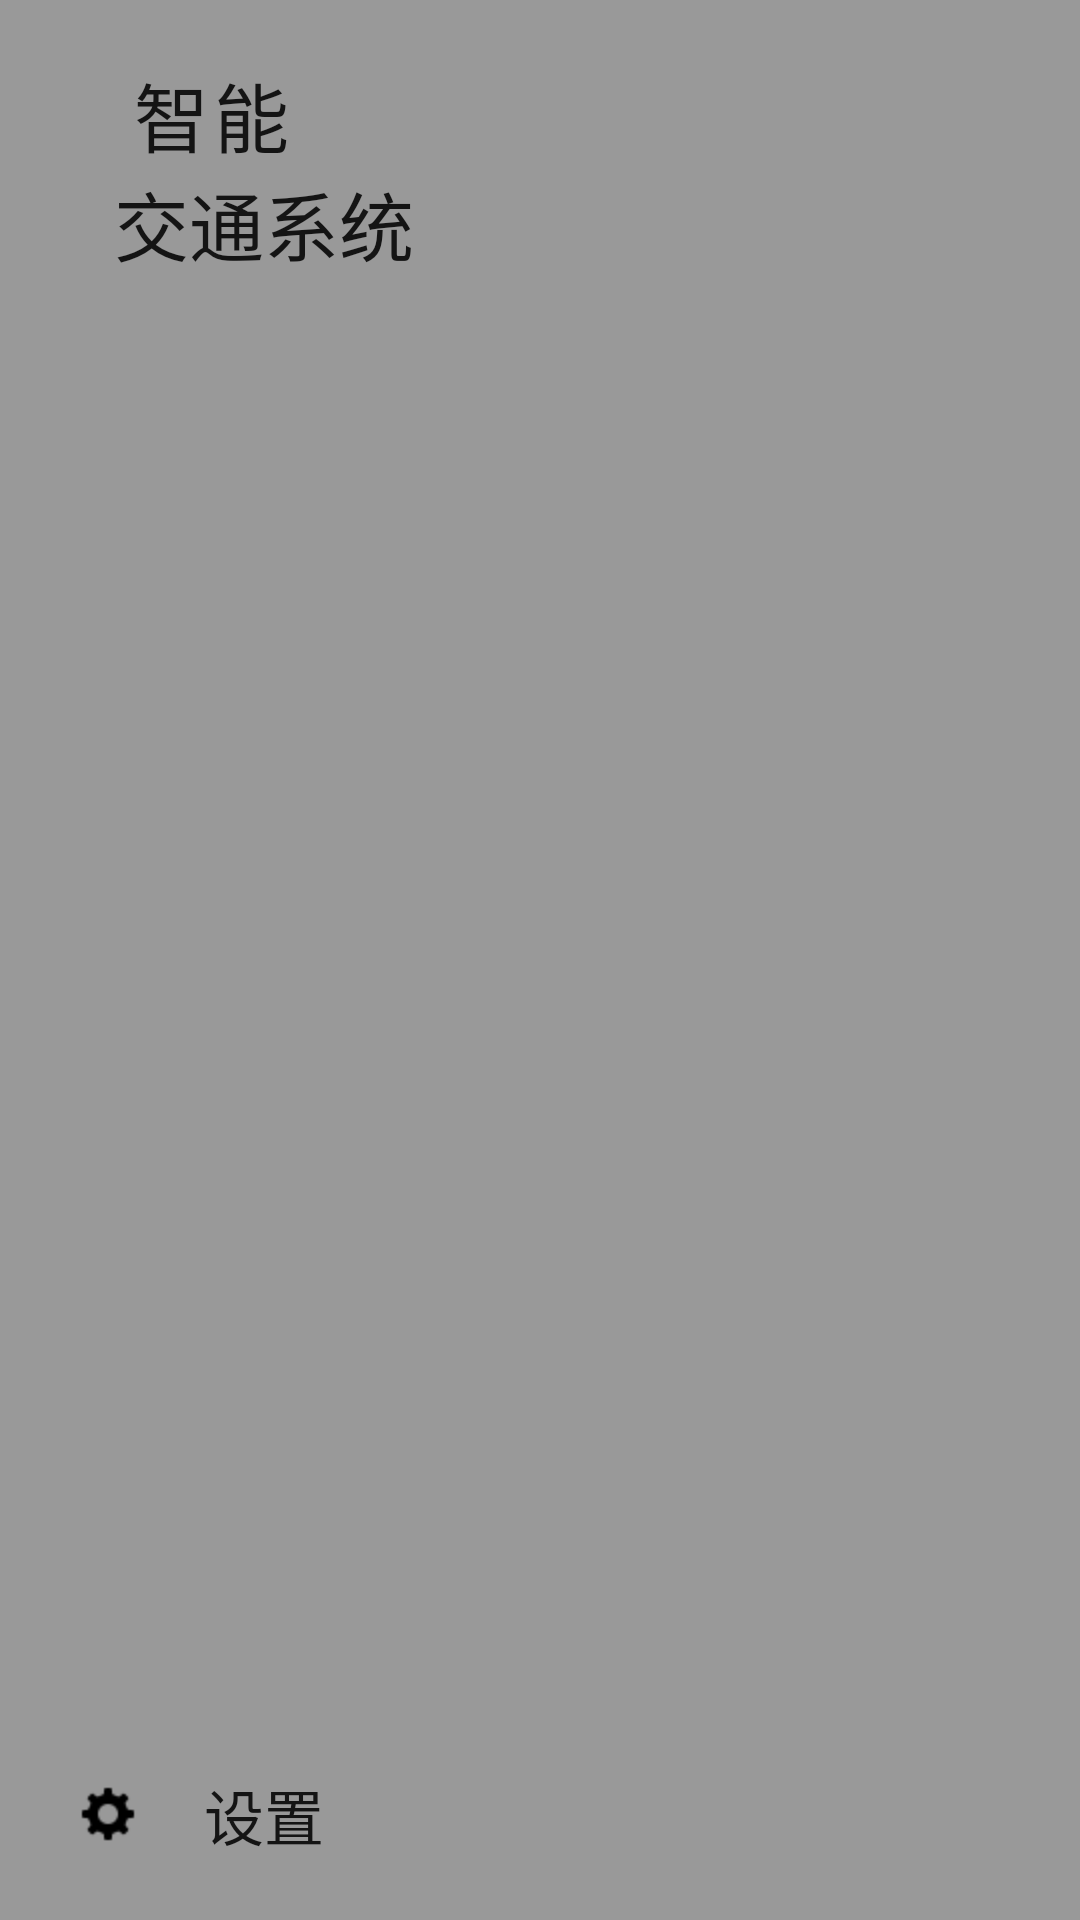

Icons on this 1080 × 1920 Android screen, each with its box as (x1, y1, x2, y2):
set: (81, 1787, 135, 1841)
